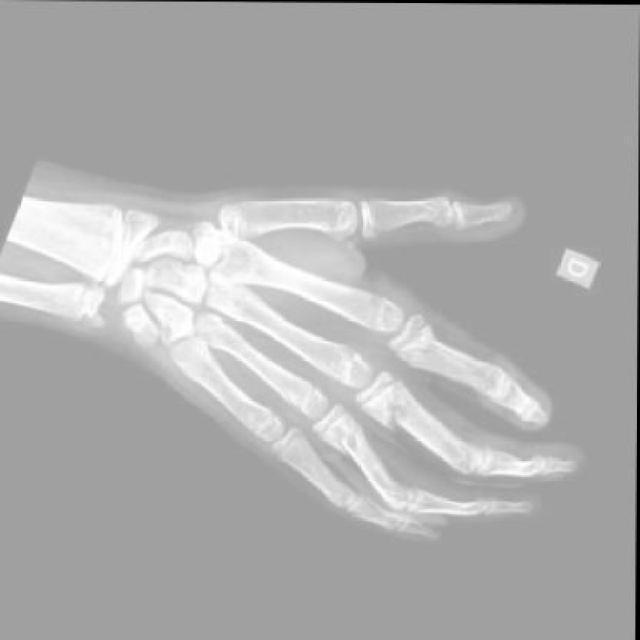Fracture: (371, 383, 416, 434), (334, 418, 376, 462), (406, 335, 442, 371)
